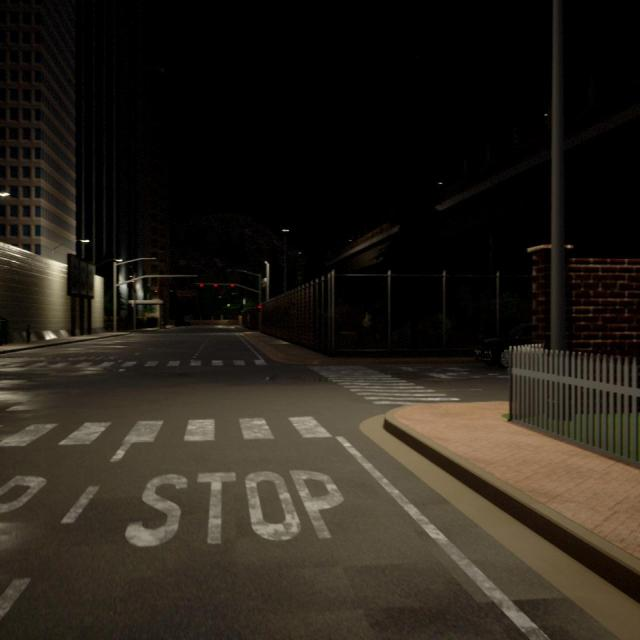Vehicle: (474, 323, 532, 370), (174, 319, 192, 327)
traffic_light: (258, 304, 262, 309), (213, 284, 218, 288), (230, 284, 234, 288), (200, 284, 204, 288)
